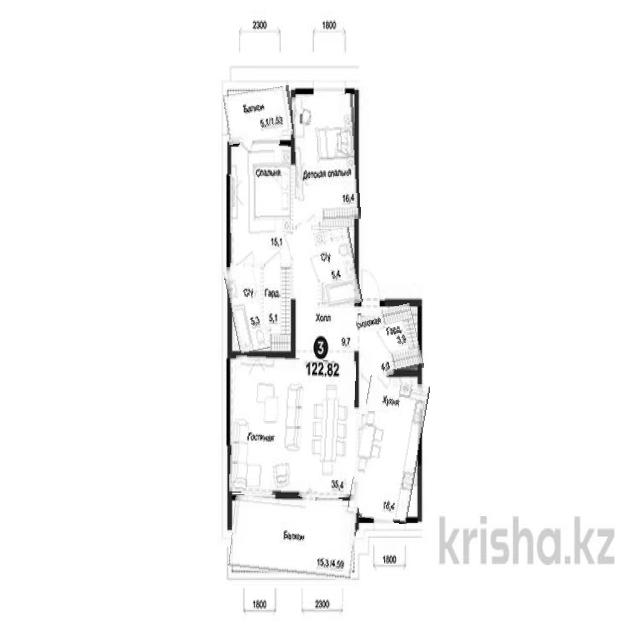balcony: (230, 498, 358, 578), (224, 87, 295, 143)
bathroom: (227, 263, 266, 353), (317, 228, 359, 307)
hallway: (358, 306, 421, 377)
kitchen: (352, 377, 425, 522)
living_room: (230, 357, 355, 497), (293, 94, 359, 222), (228, 145, 290, 263)
